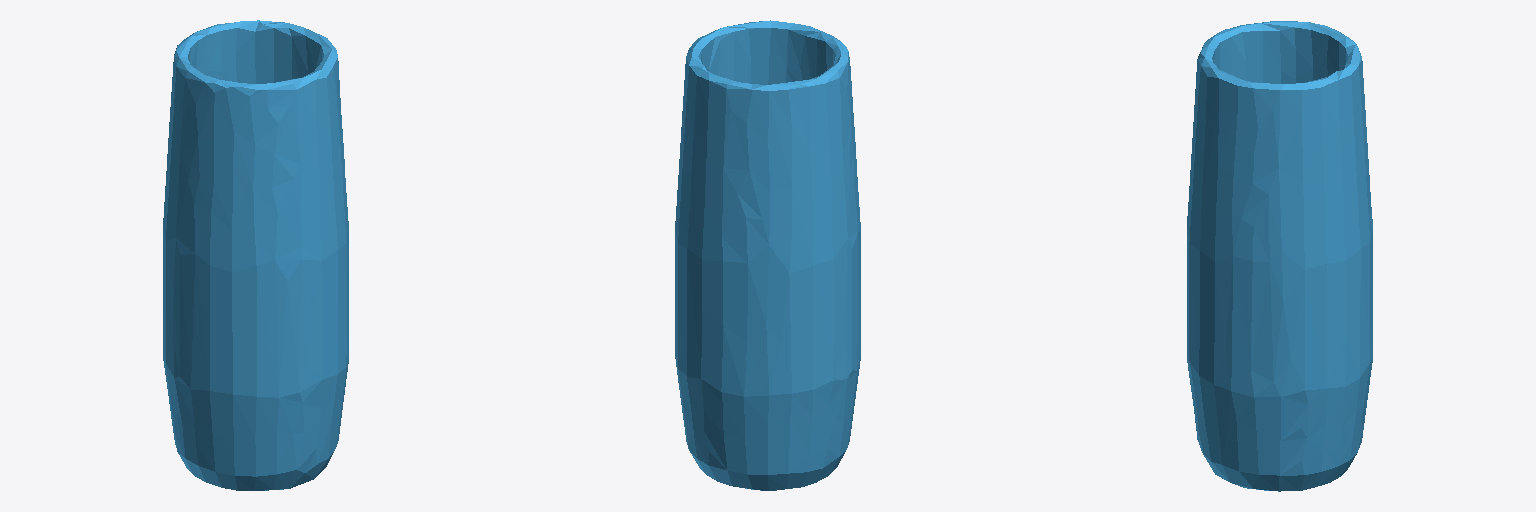
robot.urdf — Cup_3a3b19614d545834cd321262c762dc9_S:
<?xml version="1.0"?>
<robot name="Cup_3a3b19614d545834cd321262c762dc9_S">
  <link name="base"/>
  <link name="link_0">
  <visual>
    <origin xyz="0.0 0.0 0.0"/>
    <geometry>
      <mesh filename="Cup_3a3b19614d545834cd321262c762dc9_S.obj" scale="1.0 1.0 1.0"/>
    </geometry>
  </visual>
  <collision>
    <origin xyz="0.0 0.0 0.0"/>
    <geometry>
      <mesh filename="collision.obj" scale="1.0 1.0 1.0"/>
    </geometry>
  </collision>
  </link>
  <joint name="joint_0" type="fixed">
    <origin rpy="0 0 0" xyz="0 0 0"/>
    <child link="link_0"/>
    <parent link="base"/>
  </joint>
</robot>

--- What the picture shows (computed from the rendered views, not written in the file) ---
The picture shows the robot from 3 angles, left to right: view 1: azimuth 30°, elevation 25°; view 2: azimuth 150°, elevation 25°; view 3: azimuth 270°, elevation 25°; orthographic projection.
Model Cup_3a3b19614d545834cd321262c762dc9_S with 2 links and 1 joints (1 fixed), rooted at base, posed every joint at zero.
Links seen in each view (by area): view 1: link_0; view 2: link_0; view 3: link_0.
Boxes of the visible links, bbox=[...] form: link_0: bbox=[163, 20, 348, 490]; link_0: bbox=[675, 20, 860, 490]; link_0: bbox=[1187, 21, 1372, 491].
Size in the robot's own frame: 0.0297 by 0.0297 by 0.0726 metres.
1 mesh visuals loaded from 1 distinct referenced files (1 OBJ).